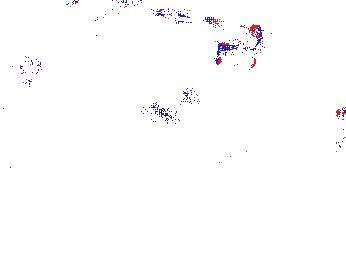X-ray fish: (121, 26, 164, 73), (2, 40, 41, 88)
red belly glassfish: (182, 84, 202, 111), (333, 104, 346, 122)
redtail glassfish: (210, 25, 266, 68), (64, 1, 148, 23), (151, 5, 220, 30)
